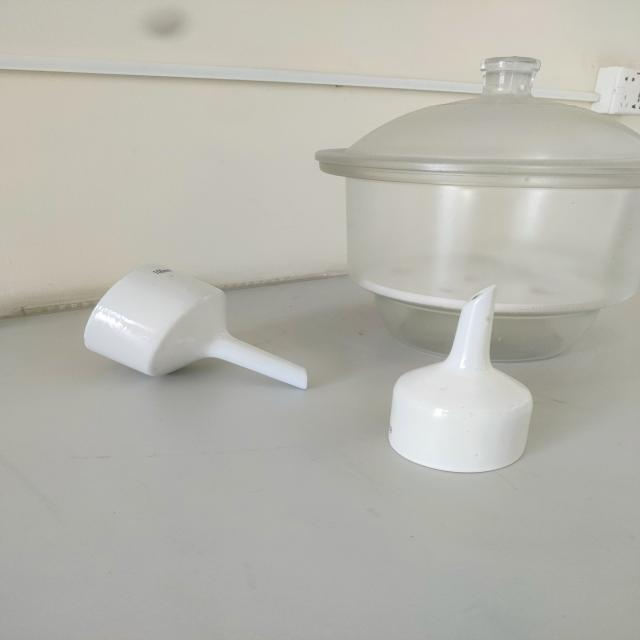Buchner_Funnel: (52, 240, 328, 406), (361, 268, 563, 491)
